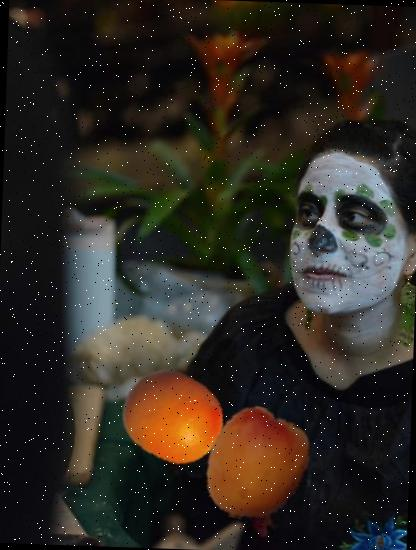Apricot: (199, 406, 317, 524)
Grapefruit: (119, 364, 226, 471)
